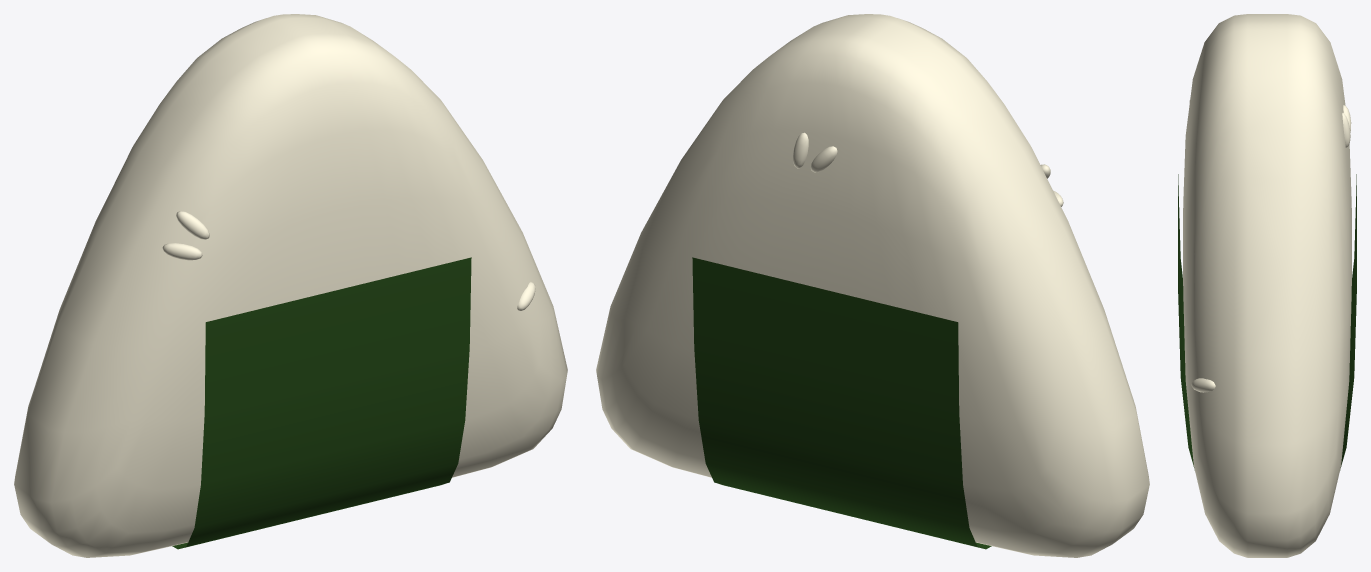
File: rice_ball.gltf
3 views of the same model, side by side, from view 1: azimuth 30°, elevation 25°; view 2: azimuth 150°, elevation 25°; view 3: azimuth 270°, elevation 25° (orthographic). The views are drawn at different scales.
Visible parts, largest first — view 1: Cube.419; view 2: Cube.419; view 3: Cube.419.
Part boxes in pixels (bbox=[...]): Cube.419: bbox=[14, 14, 567, 557]; Cube.419: bbox=[596, 14, 1149, 557]; Cube.419: bbox=[1178, 14, 1356, 557].
Size of the model in its own units: 2.36 by 2.02 by 0.7428.
1 material, 1 textured.
